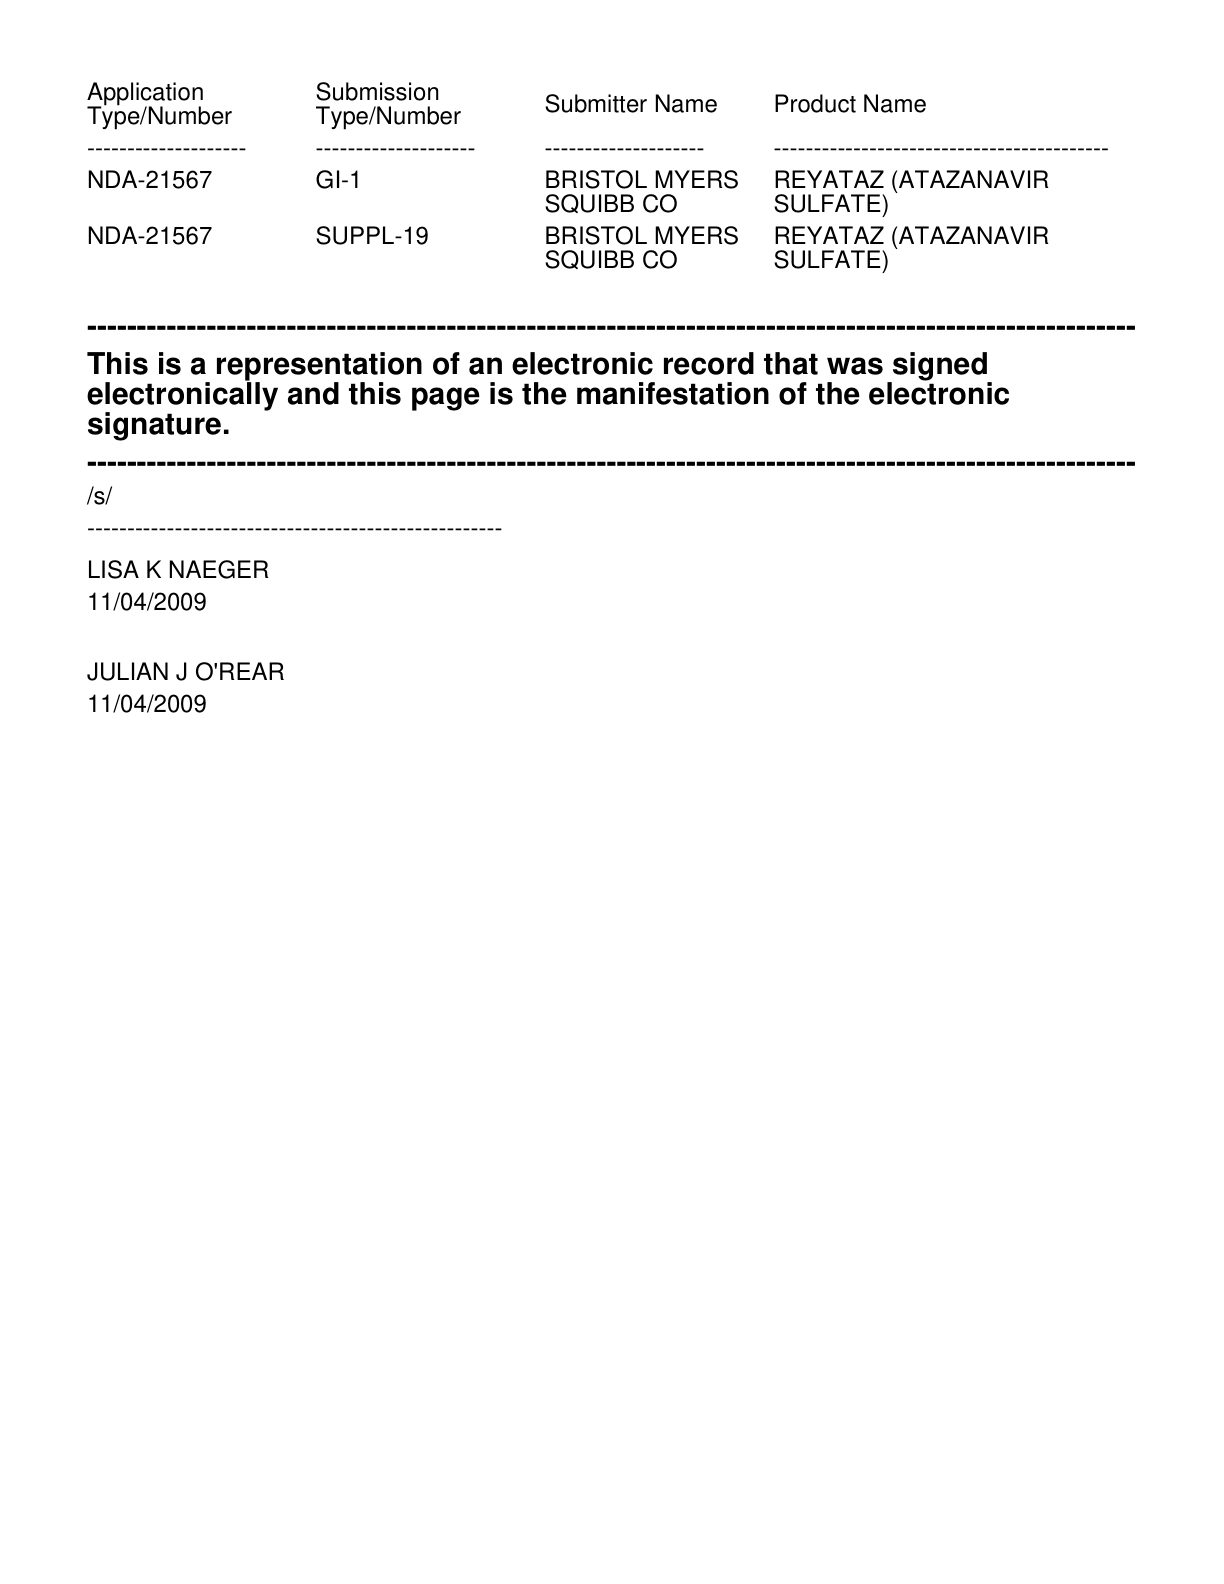nolines: (84, 75, 1111, 278)
